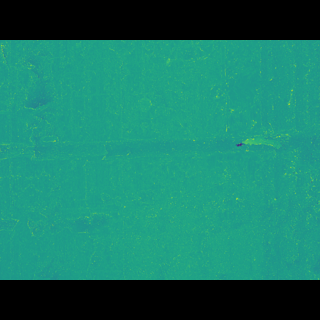Loch: (100, 71, 319, 250), (0, 179, 251, 228), (0, 135, 320, 164)
